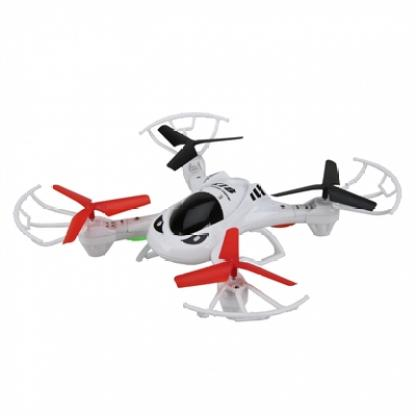drone: (26, 114, 415, 331)
